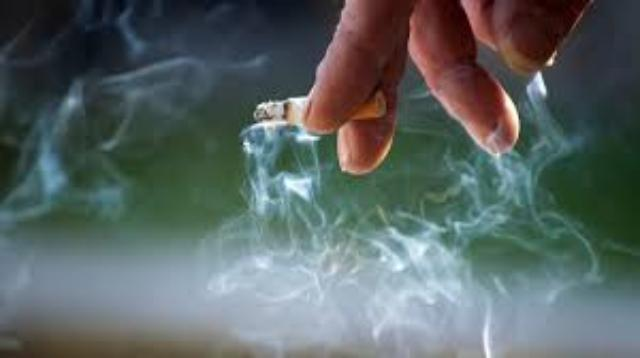Cigarette: (254, 92, 388, 125)
